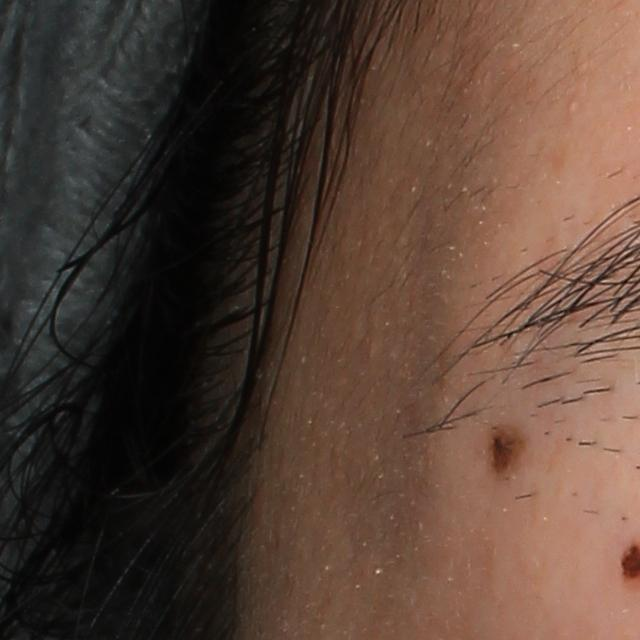nevus: (486, 425, 526, 486)
